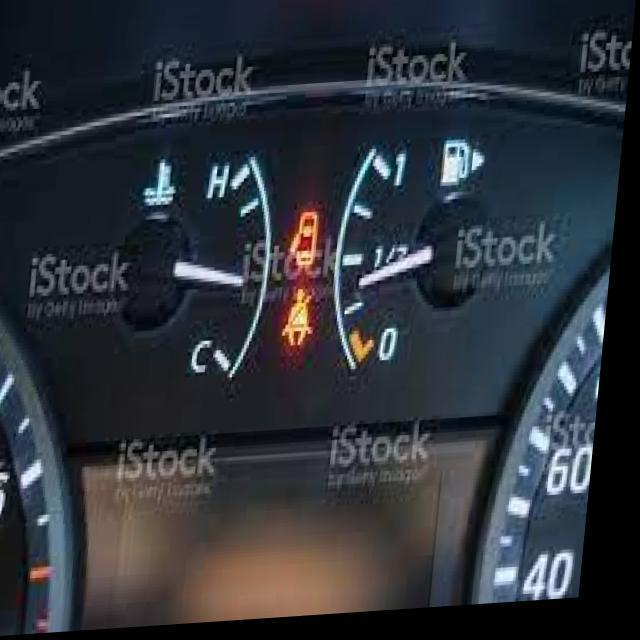Seat Belt: (284, 286, 314, 350)
